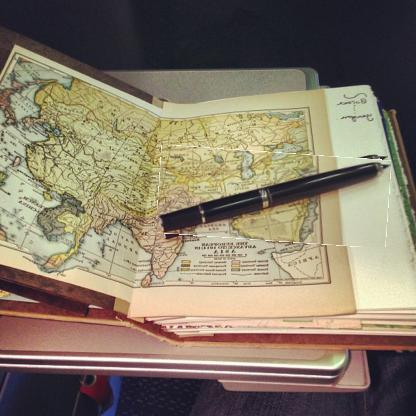Pen: (157, 149, 390, 244)
